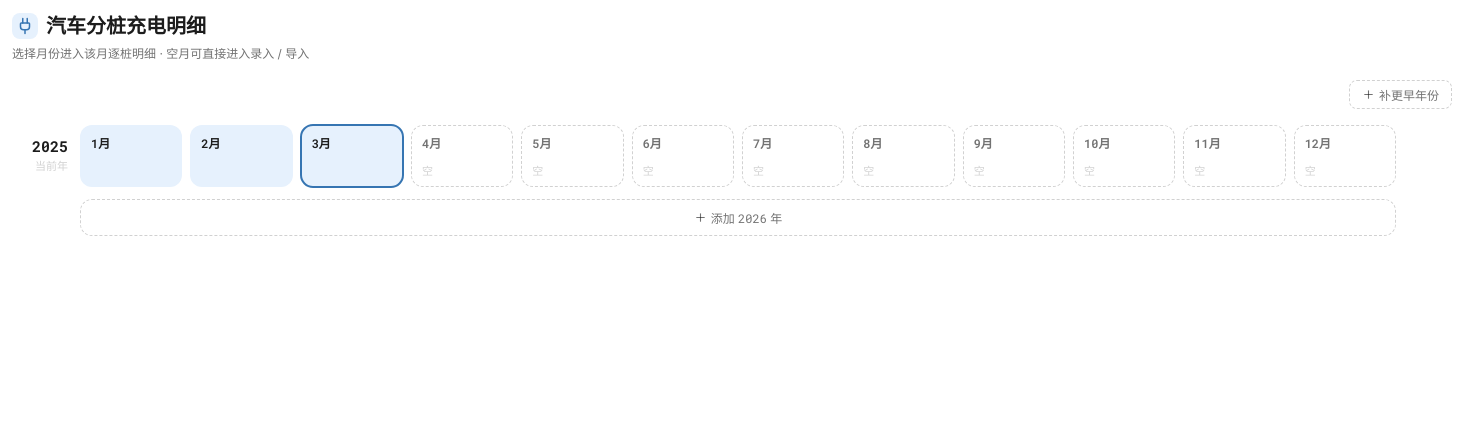
分桩充电明细 · 选期动线 › 点月格 → 落表格,拉的是那个月(记录+电表一起)
Step 1. Click the button with class "bmm-card" showing "3月" → (352, 156), box [301,125,403,187]
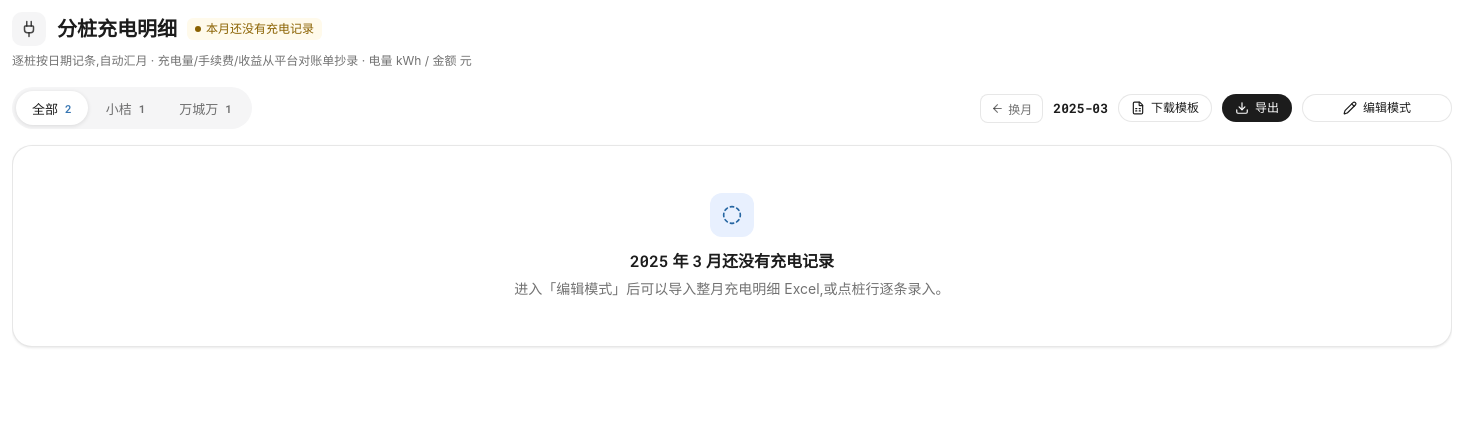
Expected: the element with class "cm-page" is shown
